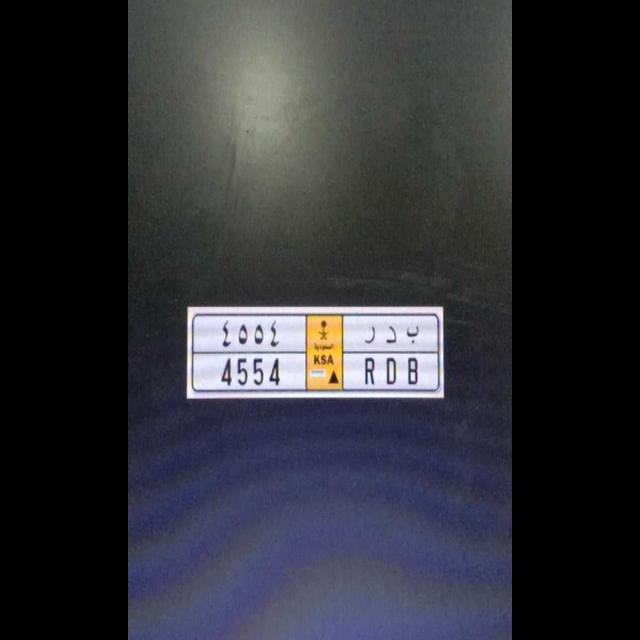license_plate: (194, 352, 434, 392)
